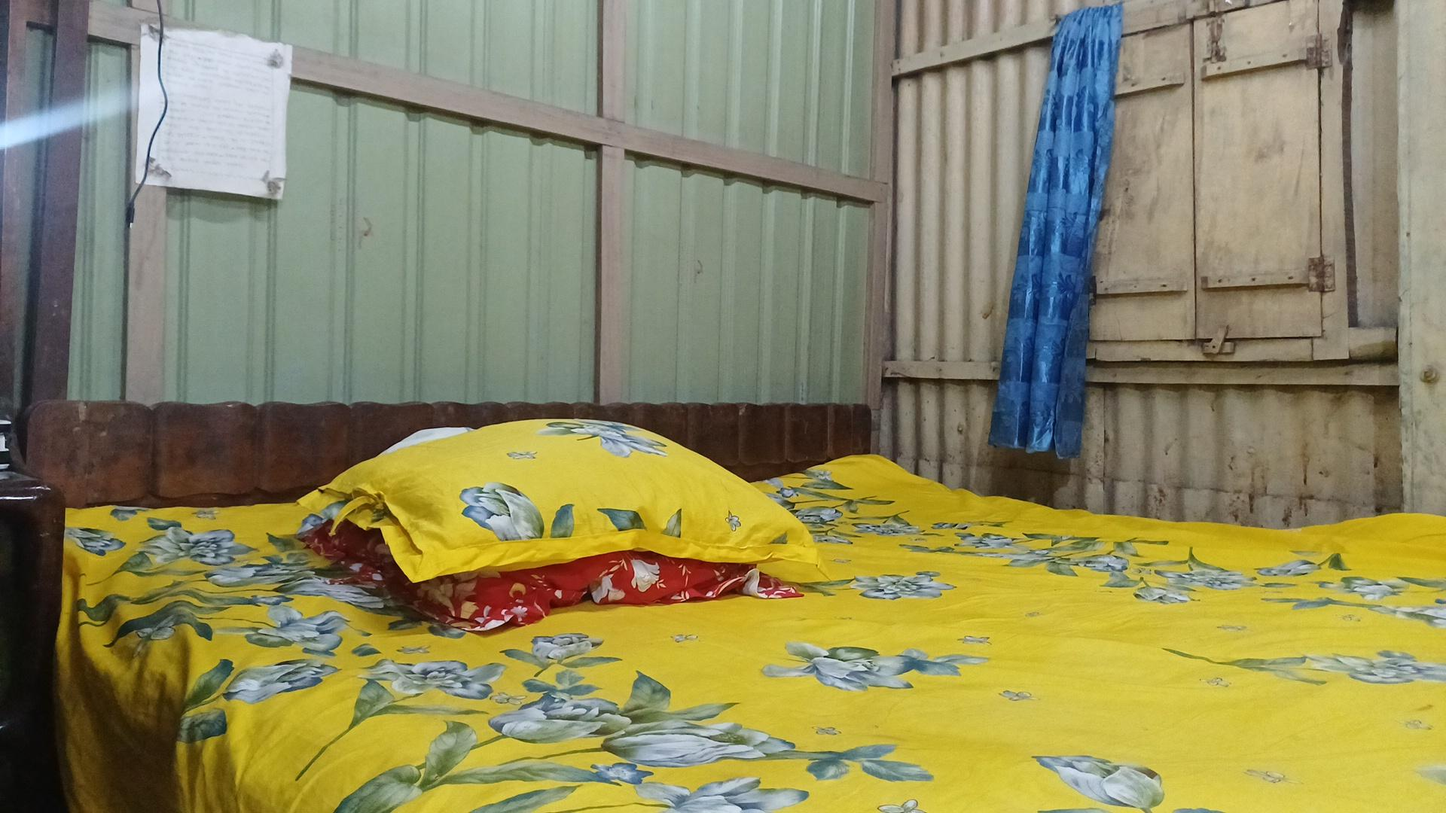Pillow: (289, 390, 891, 690)
Window: (1007, 3, 1362, 419)
